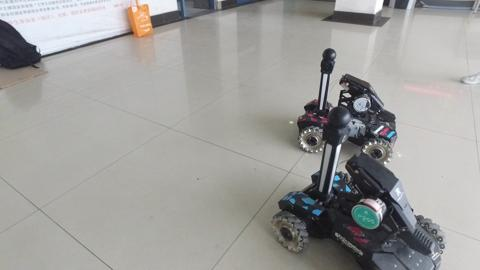chariot: (267, 109, 450, 270), (290, 45, 407, 172)
